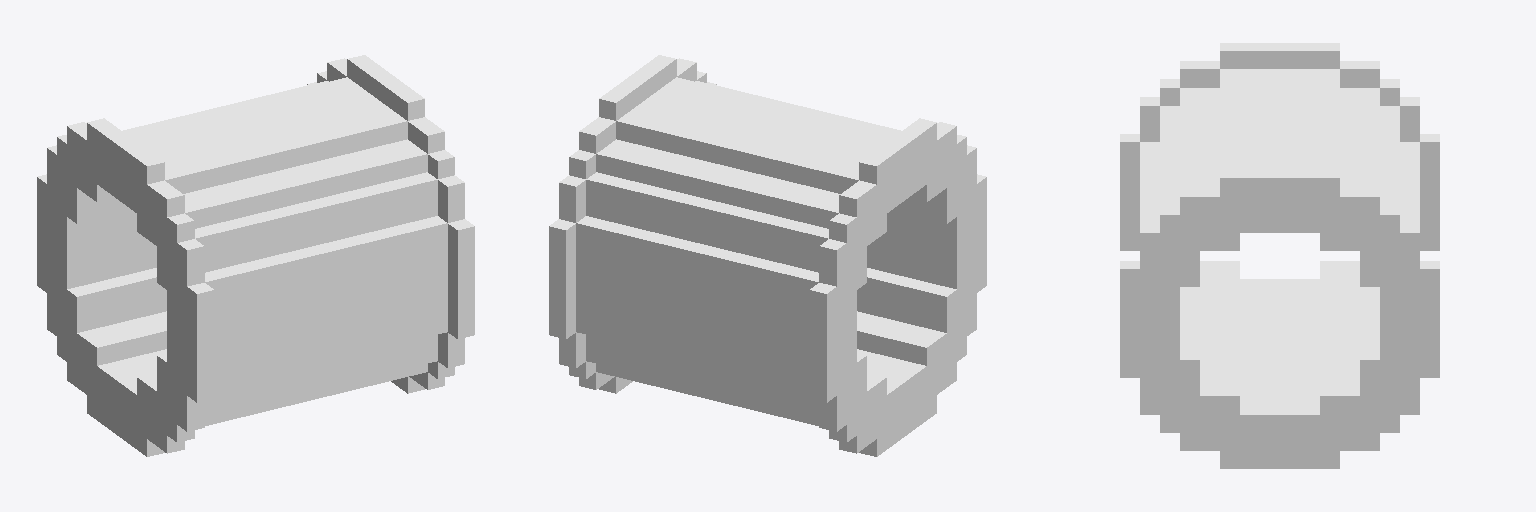
The model's file is pipe000(16,16,16).obj.
3 views of the same model, side by side, from view 1: azimuth 30°, elevation 25°; view 2: azimuth 150°, elevation 25°; view 3: azimuth 270°, elevation 25° (orthographic).
Size of the model in its own units: 16 by 16 by 16.